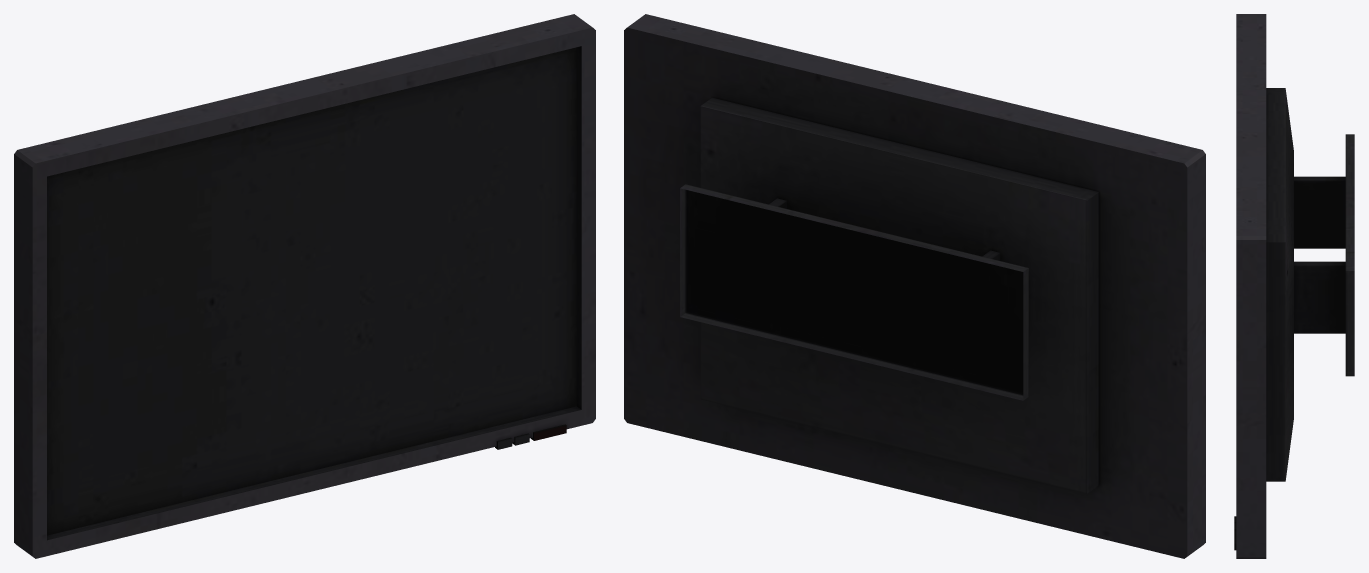
File: monitor_2.obj
The picture shows the model from 3 angles, left to right: view 1: azimuth 30°, elevation 25°; view 2: azimuth 150°, elevation 25°; view 3: azimuth 270°, elevation 25°; orthographic projection. The views are drawn at different scales.
Visible parts, largest first — view 1: monitor_2; view 2: monitor_2; view 3: monitor_2.
Part boxes in pixels (left/top/right/bottom): monitor_2: left=14, top=14, right=595, bottom=558; monitor_2: left=624, top=14, right=1205, bottom=558; monitor_2: left=1234, top=14, right=1354, bottom=558.
Size of the model in its own units: 78.01 by 52.68 by 17.71.
